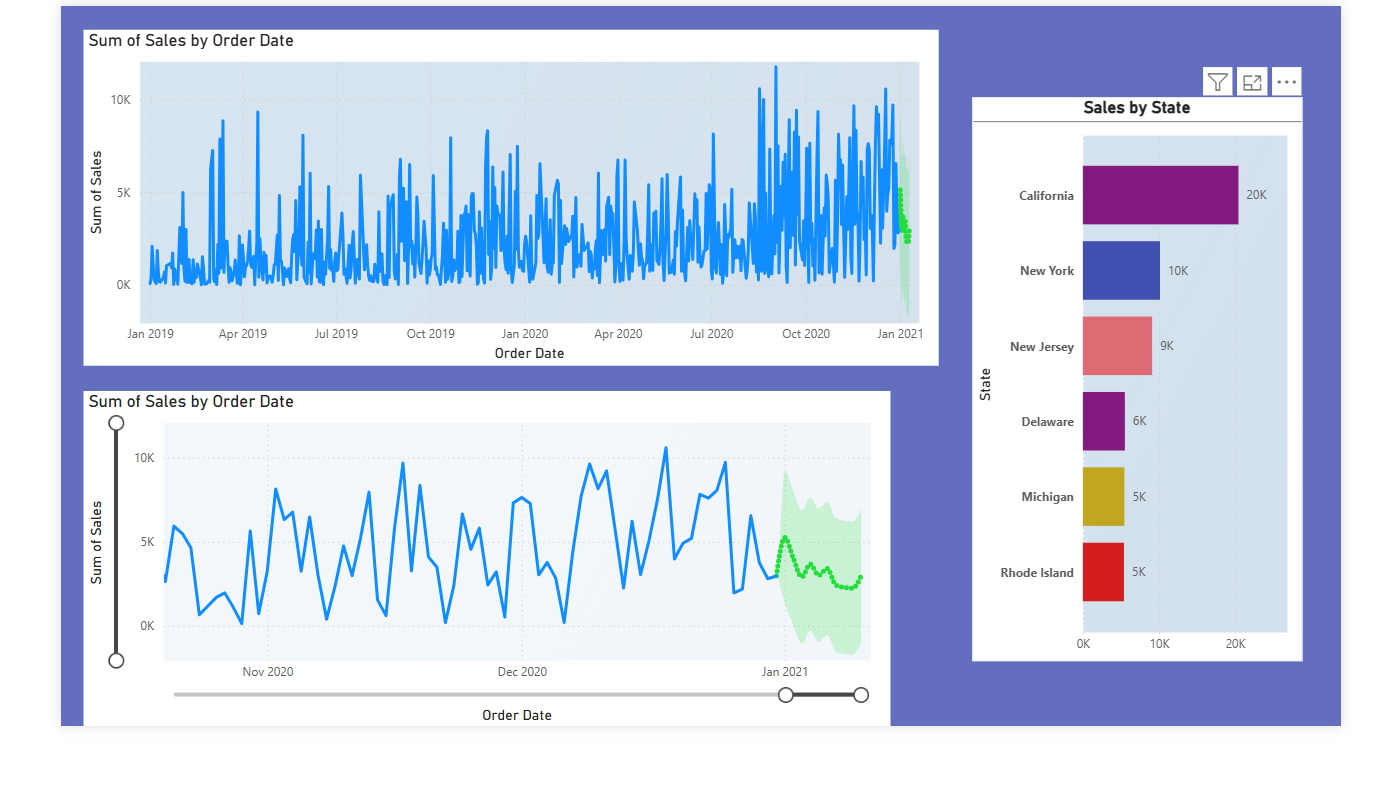

This screenshot's page, from the dashboard's own definition file:
{"tool":"powerbi","page":{"name":"Page 2","canvas":[1280,720],"ordinal":1},"visuals":[{"type":"lineChart","fields":{"Y":["Sum(Sheet1.Sales)"],"Category":["Sheet1.Order Date"]},"box":[22.5,23.8,855,336.2],"z":0},{"type":"lineChart","fields":{"Y":["Sum(Sheet1.Sales)"],"Category":["Sheet1.Order Date"]},"box":[21.9,384.4,806.2,335.9],"z":1000},{"type":"clusteredBarChart","title":" Sales by State","fields":{"Category":["Sheet1.State"],"Y":["Sum(Sheet1.Sales)"]},"box":[911.2,91.2,330,563.8],"z":2000}]}

Visuals, with their boxes in screenshot pixels (x1, y1, x2, y2), scaled from the page's 1280x720 canvas onto the 1400x792 screenshot:
lineChart - Sum(Sheet1.Sales) x Sheet1.Order Date: box(25, 26, 960, 396)
lineChart - Sum(Sheet1.Sales) x Sheet1.Order Date: box(24, 423, 906, 791)
" Sales by State" clusteredBarChart: box(997, 100, 1358, 721)
